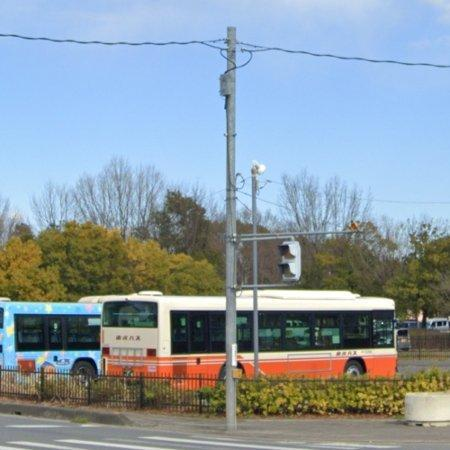buses: (81, 293, 225, 379), (260, 291, 398, 378), (0, 302, 101, 377), (237, 291, 253, 378)
